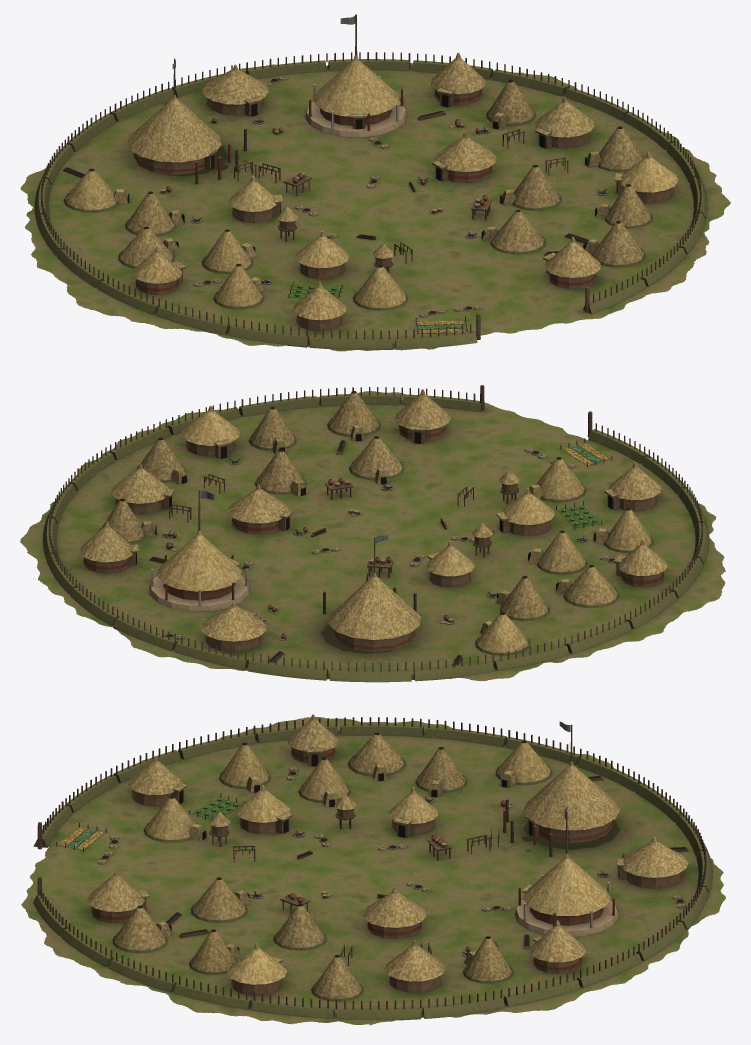
The model's file is stone-town-big-b-korea.glb.
3 views of the same model, one above another, from view 1: azimuth 30°, elevation 25°; view 2: azimuth 150°, elevation 25°; view 3: azimuth 270°, elevation 25° (orthographic). The views are drawn at different scales.
Parts seen in each view (by area): view 1: LOD0; view 2: LOD0; view 3: LOD0.
Part boxes in pixels (x1,y1,x2,y2): LOD0: [20, 14, 730, 351]; LOD0: [20, 385, 725, 682]; LOD0: [21, 714, 725, 1025].
Size of what is drawn, in the model's own units: 8 by 1.25 by 7.75.
3 materials, 3 textured.
